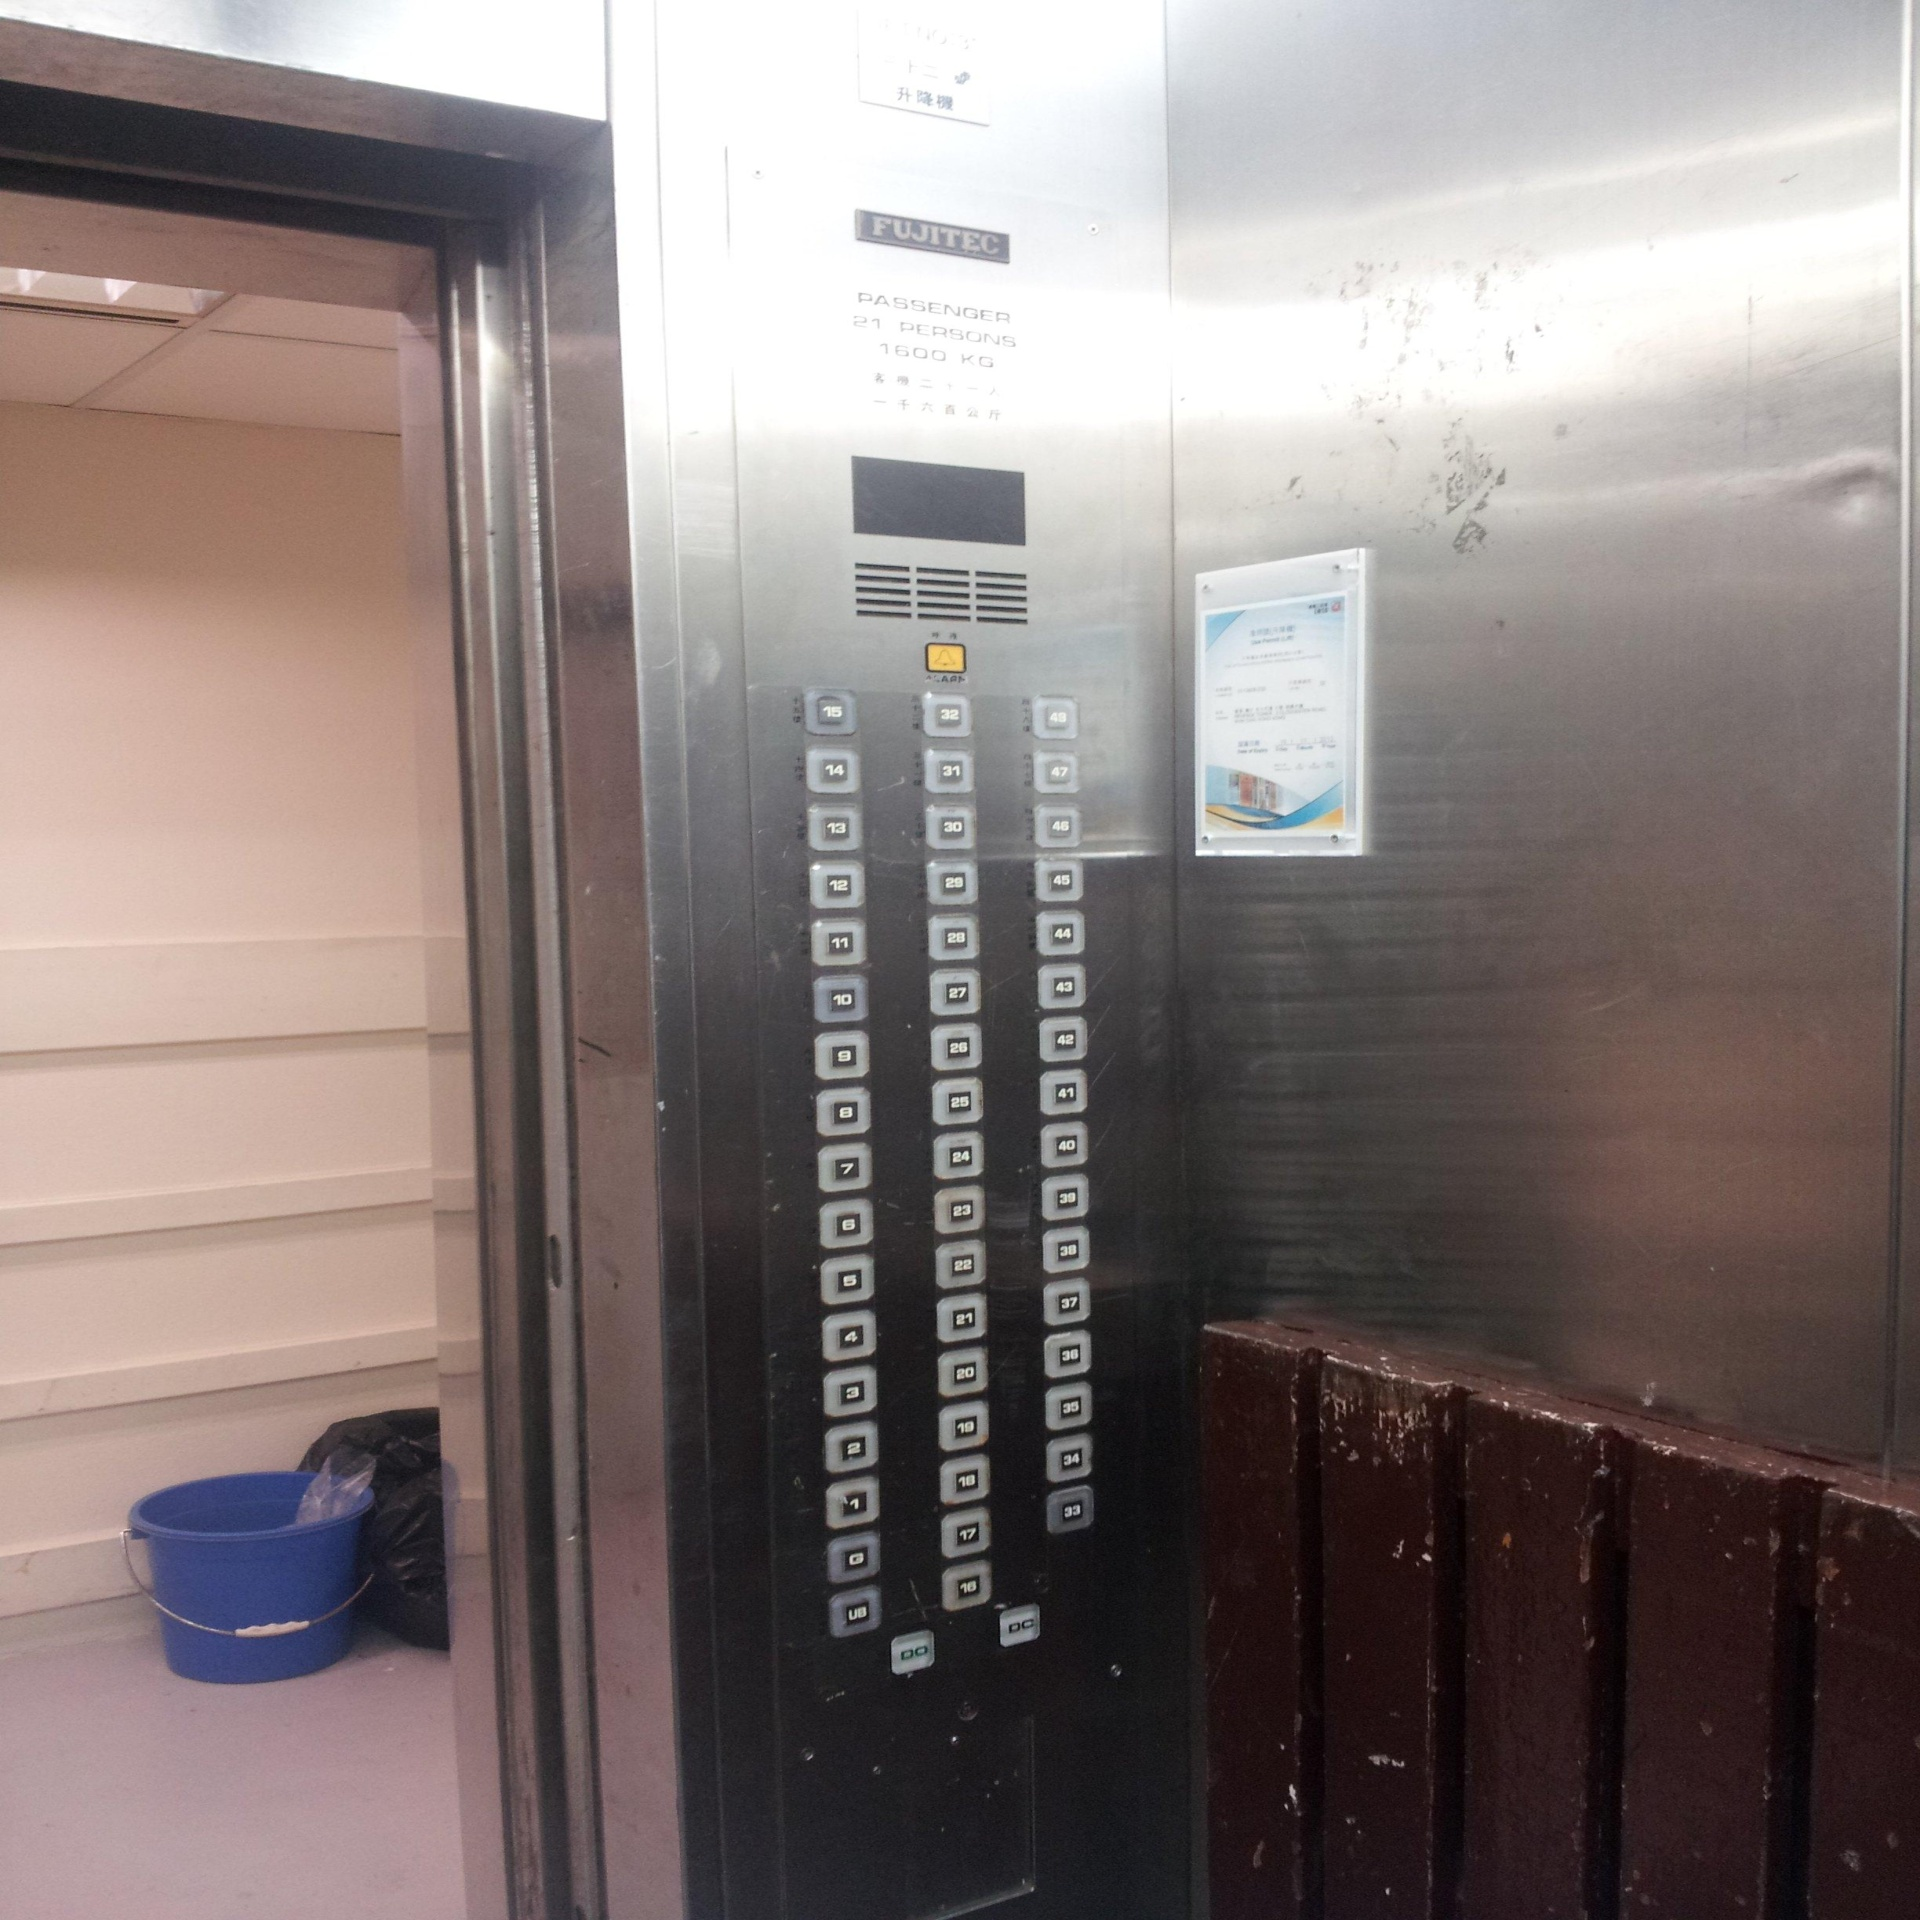1: (826, 1477, 879, 1528)
10: (812, 976, 869, 1022)
11: (812, 918, 867, 965)
12: (809, 860, 865, 907)
13: (809, 804, 862, 849)
14: (805, 745, 862, 795)
15: (804, 687, 856, 737)
16: (942, 1561, 990, 1611)
17: (941, 1507, 990, 1558)
18: (941, 1456, 988, 1503)
19: (937, 1401, 986, 1451)
2: (826, 1421, 877, 1472)
20: (939, 1349, 988, 1394)
21: (935, 1294, 986, 1342)
22: (935, 1240, 985, 1287)
23: (934, 1185, 985, 1233)
24: (934, 1132, 983, 1180)
25: (932, 1078, 983, 1125)
26: (932, 1023, 981, 1071)
27: (928, 969, 979, 1015)
28: (928, 913, 978, 958)
29: (928, 860, 978, 904)
3: (823, 1366, 877, 1415)
30: (925, 804, 976, 847)
31: (925, 747, 972, 793)
32: (923, 693, 972, 738)
33: (1046, 1486, 1094, 1533)
34: (1046, 1435, 1092, 1480)
35: (1046, 1382, 1092, 1429)
36: (1044, 1329, 1090, 1377)
37: (1043, 1278, 1090, 1324)
38: (1043, 1225, 1088, 1273)
39: (1043, 1175, 1088, 1220)
4: (823, 1308, 876, 1361)
40: (1041, 1122, 1088, 1167)
41: (1039, 1069, 1088, 1113)
42: (1039, 1016, 1087, 1060)
43: (1037, 964, 1087, 1009)
44: (1036, 911, 1085, 955)
45: (1036, 860, 1083, 900)
46: (1034, 804, 1081, 846)
47: (1032, 751, 1080, 795)
48: (1030, 693, 1080, 738)
5: (821, 1254, 874, 1305)
6: (819, 1199, 872, 1247)
7: (818, 1143, 870, 1190)
8: (816, 1087, 870, 1136)
9: (816, 1032, 870, 1080)
DC: (1000, 1604, 1041, 1647)
DO: (890, 1628, 935, 1676)
G: (828, 1531, 879, 1584)
UB: (830, 1584, 883, 1635)
alarm: (925, 642, 967, 673)
led: (851, 455, 1027, 547)
